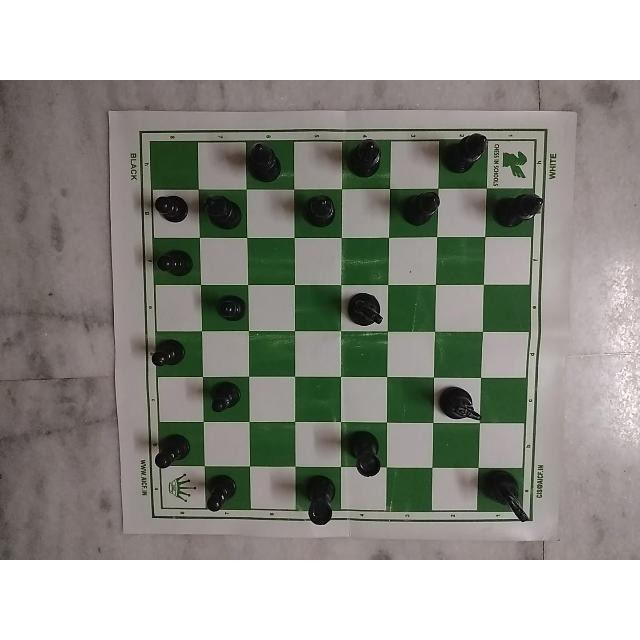black-bishop: (198, 190, 248, 238), (446, 128, 490, 180), (494, 185, 544, 227), (239, 140, 289, 180), (398, 189, 445, 229), (350, 131, 390, 176), (298, 196, 338, 228)
black-knight: (480, 472, 532, 524), (340, 284, 391, 331), (440, 382, 482, 426)
black-pawn: (146, 181, 193, 239), (200, 474, 240, 522), (152, 427, 193, 472), (210, 285, 249, 327), (147, 337, 189, 375), (203, 379, 242, 419), (156, 246, 197, 275)
black-rook: (349, 429, 386, 478), (302, 477, 338, 527)
